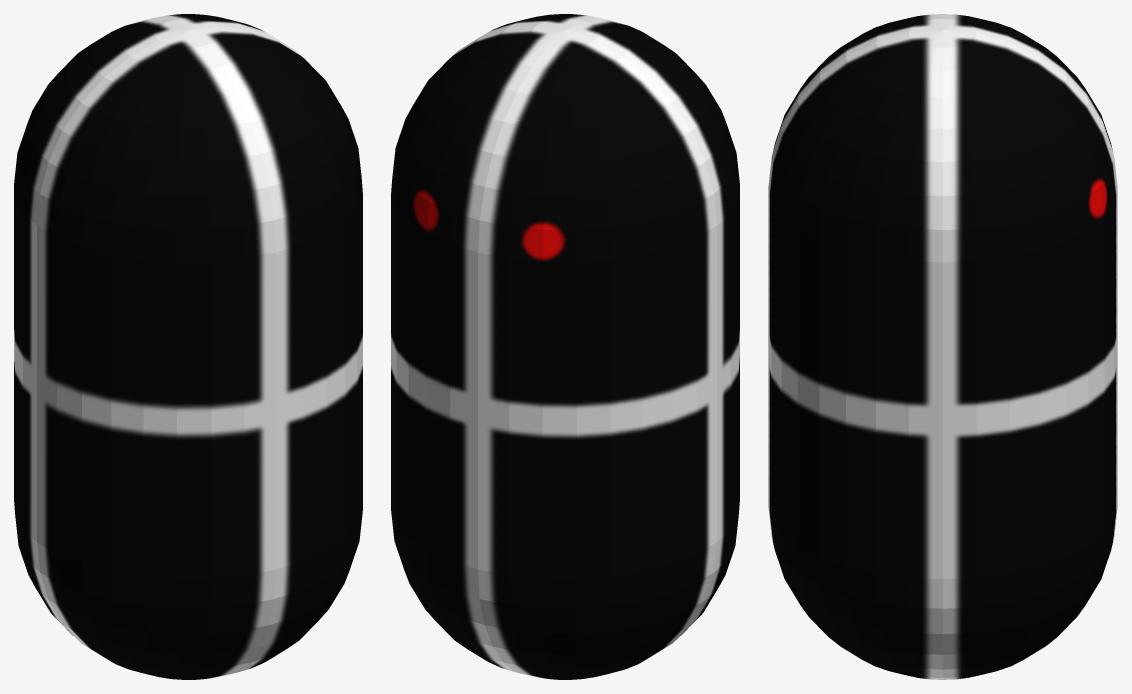
Rendered from ninja.glb.
3 views of the same model, side by side, from view 1: azimuth 30°, elevation 25°; view 2: azimuth 150°, elevation 25°; view 3: azimuth 270°, elevation 25° (orthographic).
Visible parts, largest first — view 1: Sphere; view 2: Sphere; view 3: Sphere.
Boxes of the visible parts, box(x1,y1,x2,y2) form: Sphere: box(14, 14, 362, 679); Sphere: box(391, 14, 739, 679); Sphere: box(768, 14, 1117, 679).
Bounding box in the file's own units: 1 × 2 × 1.
Materials: 1 (1 with a texture image).
